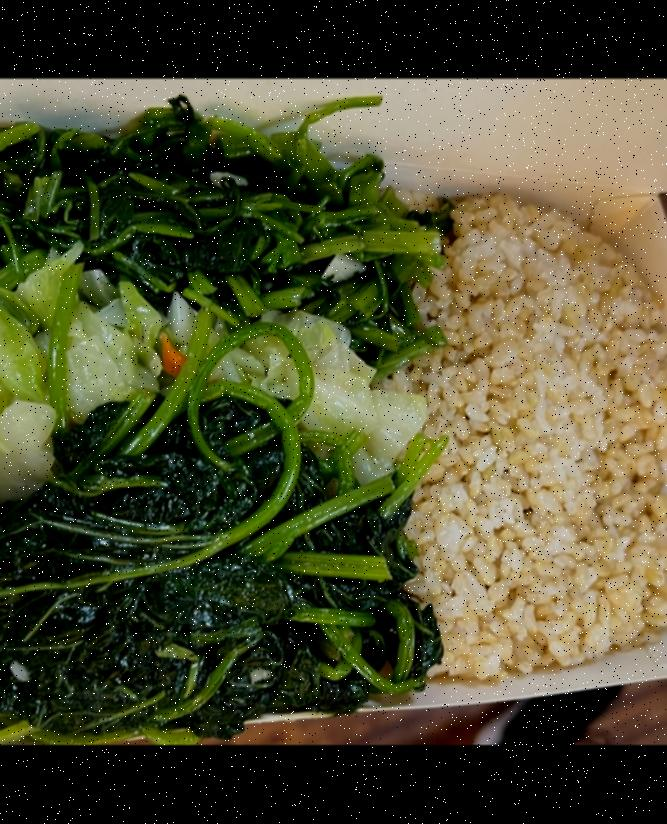box: (0, 114, 667, 739)
brown rice: (413, 198, 667, 677)
side dish: (0, 421, 419, 734), (0, 118, 405, 307), (0, 309, 397, 474)
